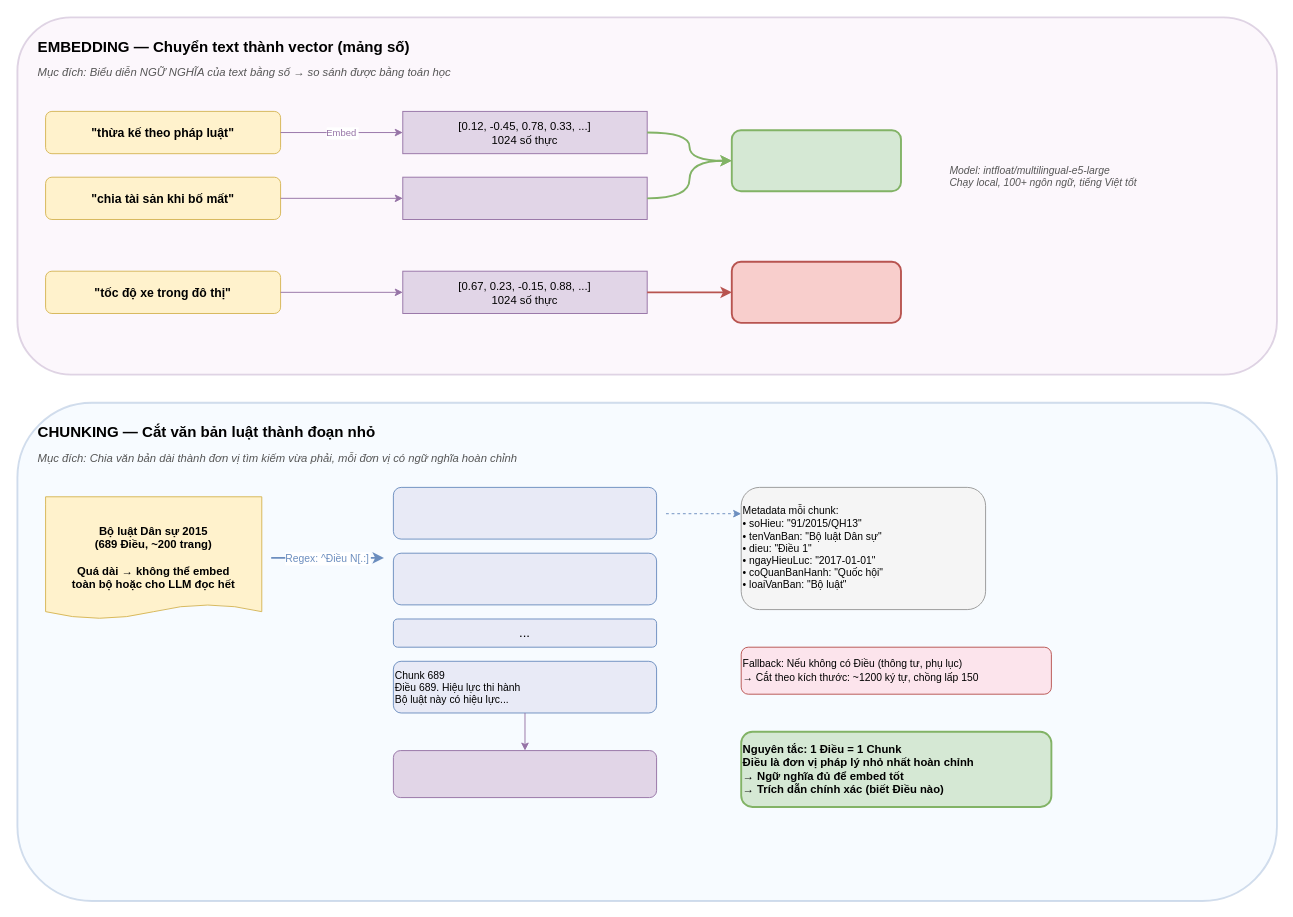
The diagram is 1293 pixels wide and 917 high, and some of its shapes have lost their labels. Here are the shapes that lost their labels. From the top down, the centre of each, then its label:
the point at 815,160: CÙNG NGHĨA → Vector GẦN NHAU cosine ≈ 0.85
the point at 524,197: [0.11, -0.43, 0.76, 0.31, ...] 1024 số thực
the point at 815,291: KHÁC NGHĨA → Vector XA NHAU cosine ≈ 0.2
the point at 524,512: Chunk 1 Điều 1. Phạm vi điều chỉnh Bộ luật này quy định...
the point at 524,578: Chunk 2 Điều 2. Công nhận, tôn trọng... Ở nước CHXHCN Việt Nam...
the point at 524,774: Mỗi chunk → Embed → Vector Lưu vào ChromaDB
